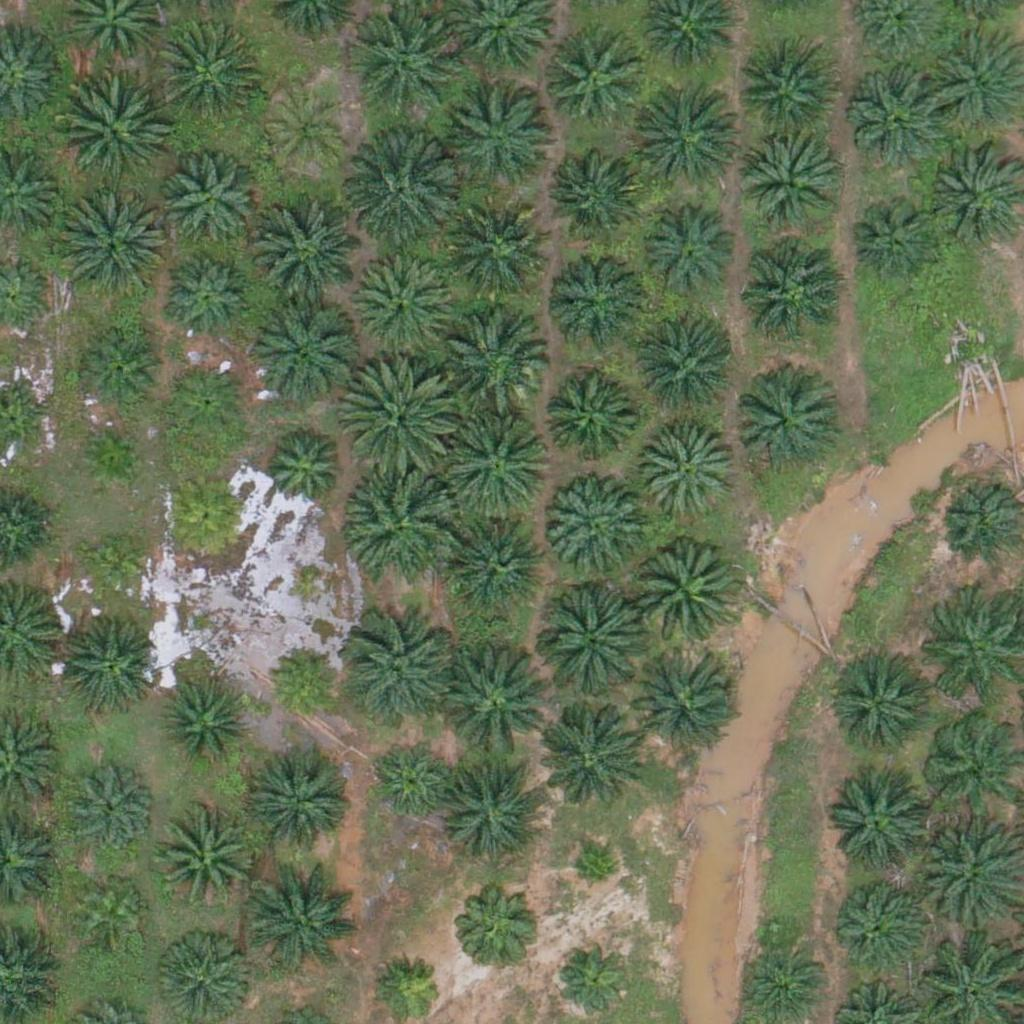Kelapa_Sawit: (344, 9, 457, 123), (532, 585, 645, 698), (529, 702, 642, 815), (347, 466, 460, 579), (344, 614, 457, 727), (437, 302, 550, 415), (344, 135, 457, 248), (54, 188, 167, 301), (55, 76, 168, 189), (436, 644, 548, 758), (440, 403, 552, 517), (342, 355, 454, 469), (249, 863, 361, 976), (628, 537, 740, 650), (625, 645, 737, 758), (441, 754, 553, 867), (632, 80, 744, 193), (153, 18, 265, 131), (251, 201, 363, 314), (246, 294, 358, 407), (55, 616, 155, 717), (154, 809, 254, 910), (251, 748, 351, 849), (917, 602, 1017, 703), (923, 714, 1023, 815), (829, 868, 929, 969), (829, 776, 929, 877), (835, 650, 935, 751), (732, 374, 832, 475), (639, 423, 739, 524), (537, 368, 637, 469), (544, 476, 644, 577), (851, 63, 951, 164), (735, 132, 835, 233), (735, 44, 835, 145), (353, 256, 453, 357), (158, 150, 258, 251), (637, 325, 737, 425), (451, 514, 551, 614), (741, 242, 841, 342), (637, 201, 737, 301), (549, 246, 649, 346), (541, 26, 641, 126), (546, 142, 646, 242), (452, 92, 552, 192), (444, 205, 544, 305), (162, 470, 250, 559), (368, 740, 456, 828), (162, 357, 250, 445), (453, 877, 541, 965), (263, 88, 351, 176), (164, 253, 251, 342), (67, 761, 154, 849), (161, 681, 248, 769), (551, 933, 638, 1021), (258, 425, 345, 513), (852, 194, 939, 282), (73, 327, 160, 415), (265, 642, 340, 718), (73, 419, 148, 495), (77, 527, 152, 603), (74, 875, 149, 950), (570, 848, 620, 898)
